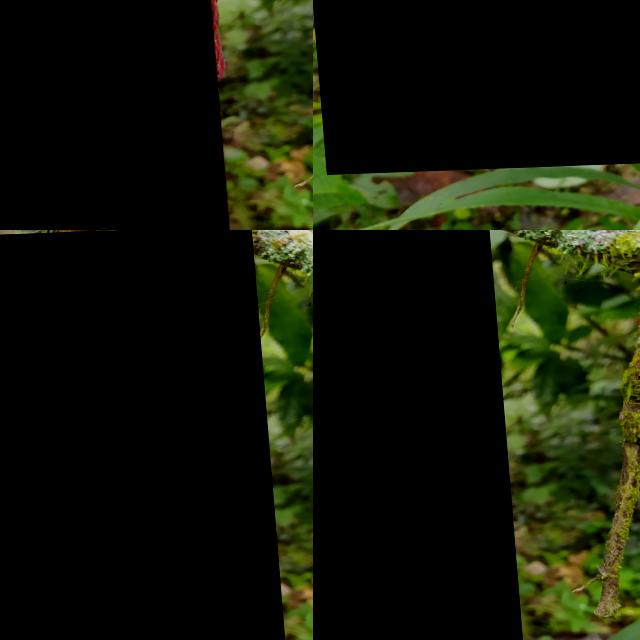Fitoftora: (0, 0, 232, 230)
Monilia: (313, 8, 361, 225)
Sana: (0, 230, 287, 640), (313, 230, 516, 640), (313, 0, 640, 175)
